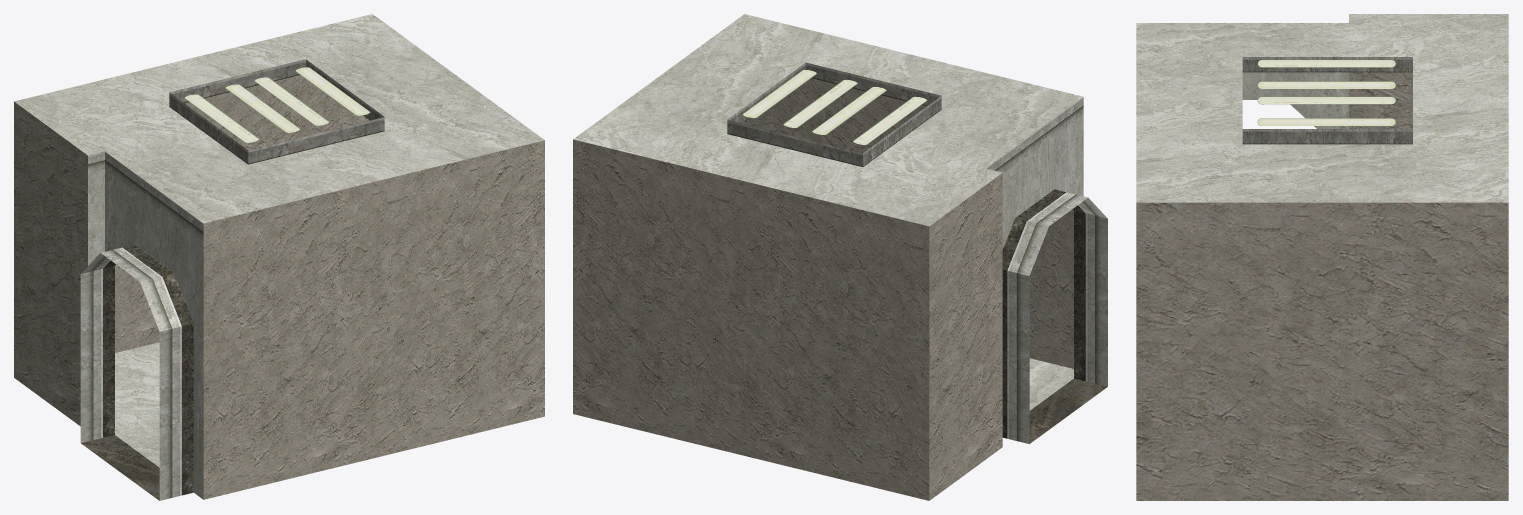
The model's file is ply_all_assoc_hall_civ_s01_r7_closeta_mesh_closet_a.fbx.
The picture shows the model from 3 angles, left to right: view 1: azimuth 30°, elevation 25°; view 2: azimuth 150°, elevation 25°; view 3: azimuth 270°, elevation 25°; orthographic projection. The views are drawn at different scales.
Parts seen in each view (by area): view 1: mesh_node; view 2: mesh_node; view 3: mesh_node.
Boxes of the visible parts, x1,y1,x2,y2 form: mesh_node: (14, 14, 544, 500); mesh_node: (573, 14, 1107, 500); mesh_node: (1136, 14, 1508, 500).
Size of the model in its own units: 5.5 by 4.07 by 4.38.
